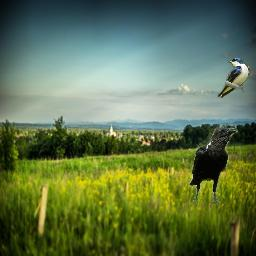Crow: (188, 123, 238, 206)
Swallow: (217, 57, 250, 98)
